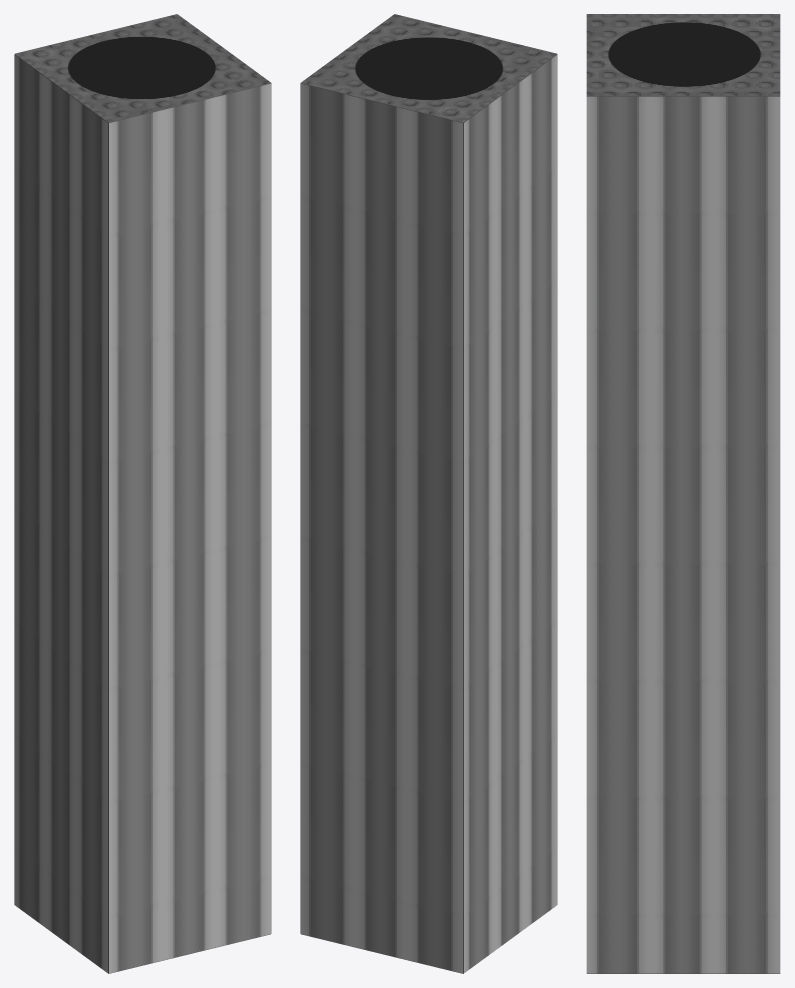
The model's file is railgun.obj.
3 views of the same model, side by side, from view 1: azimuth 30°, elevation 25°; view 2: azimuth 150°, elevation 25°; view 3: azimuth 270°, elevation 25° (orthographic). The views are drawn at different scales.
Visible parts, largest first — view 1: Railgun4, Railgun5, Railgun7, Railgun1; view 2: Railgun6, Railgun5, Railgun7, Railgun1; view 3: Railgun3, Railgun7.
Boxes of the visible parts, x1=… form: Railgun4: x1=109, y1=83, x2=271, y2=973; Railgun5: x1=14, y1=54, x2=107, y2=972; Railgun7: x1=15, y1=14, x2=270, y2=122; Railgun1: x1=15, y1=54, x2=270, y2=973; Railgun6: x1=300, y1=83, x2=462, y2=973; Railgun5: x1=464, y1=54, x2=557, y2=972; Railgun7: x1=301, y1=14, x2=556, y2=122; Railgun1: x1=301, y1=54, x2=556, y2=973; Railgun3: x1=586, y1=96, x2=780, y2=973; Railgun7: x1=586, y1=14, x2=780, y2=95.
Bounding box in the file's own units: 6.04 × 30.04 × 6.04.
Materials: 4 (3 with a texture image).
